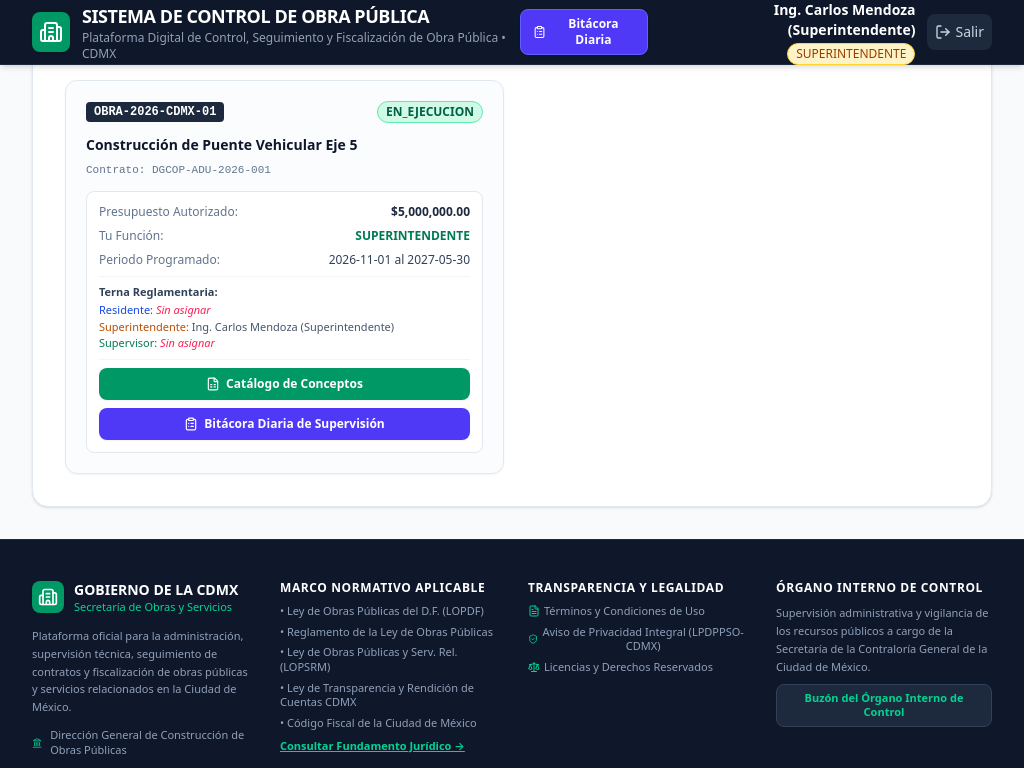
Test case: Sprint 5: Catálogos Modificados, Extraordinarios y Auditoría (HU-027 a HU-033) › HU-027: debe mostrar botón de Crear Catálogo Modificado cuando el original está bloqueado y abrir modal
(page scrolled)
Click the button "Catálogo de Conceptos".
click(284, 384)  # box [99, 368, 470, 400]
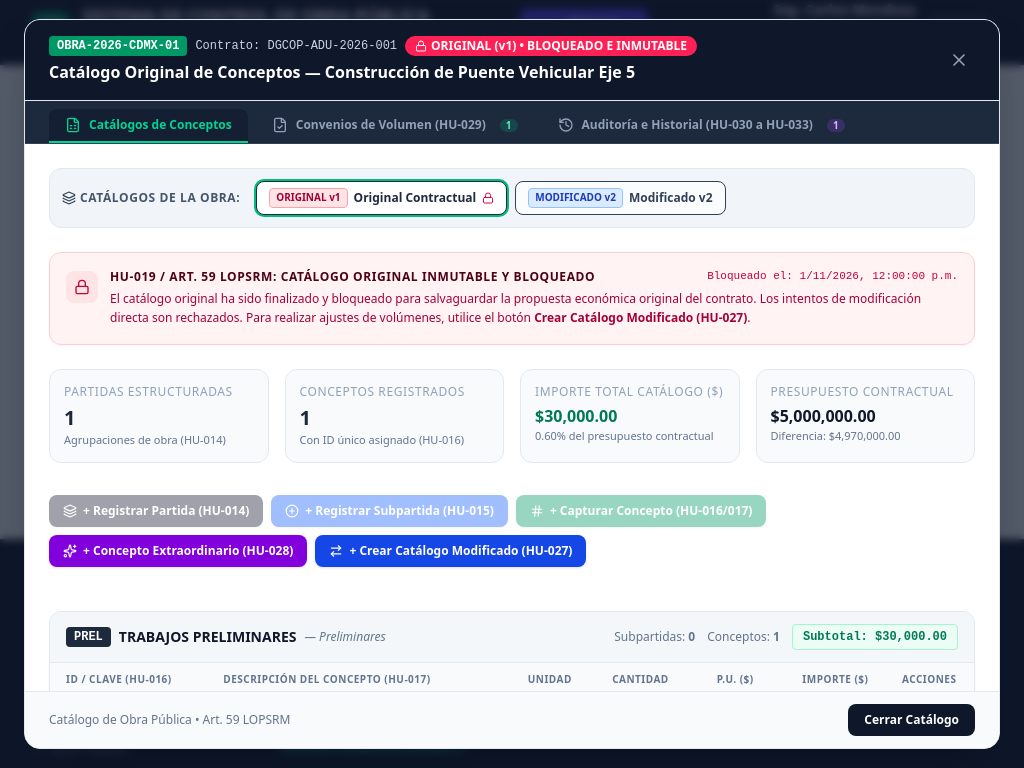
Expected: the button "+ Crear Catálogo Modificado (HU-027)" is shown
Note: Abrir modal
Click the button "+ Crear Catálogo Modificado (HU-027)".
click(451, 550)  # box [315, 534, 586, 566]
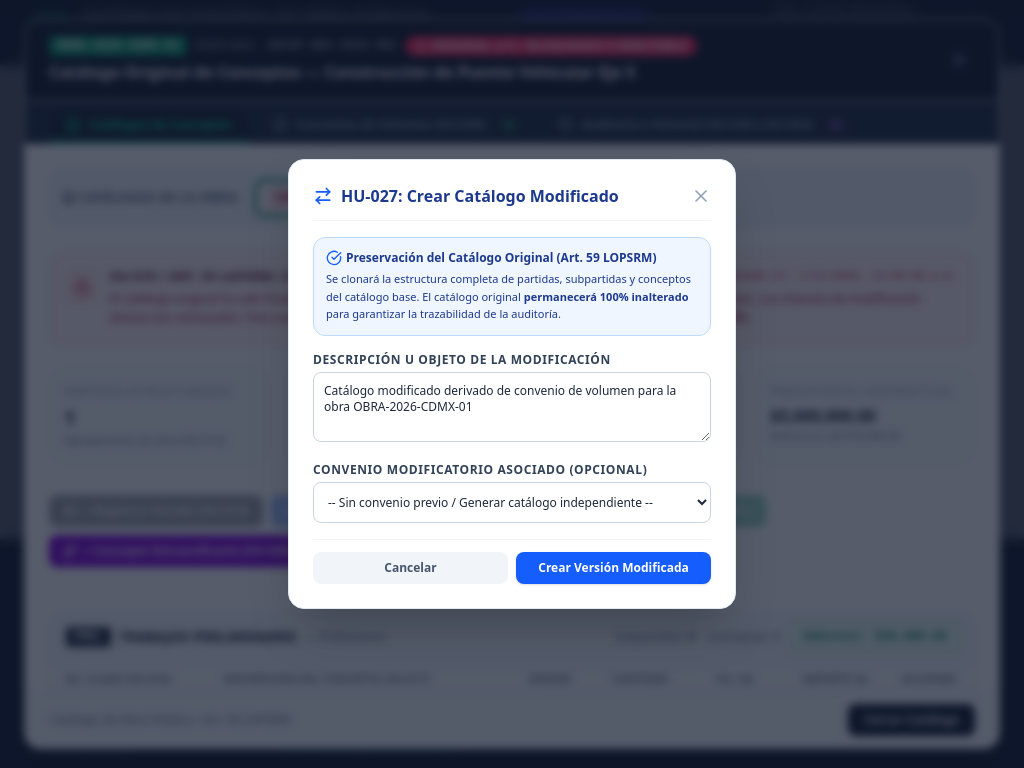
Expected: the heading "HU-027: Crear Catálogo Modificado" is shown, [313, 184, 619, 208]
Expected: the text "Preservación del Catálogo Original (Art. 59 LOPSRM)" is shown, [326, 250, 698, 266]
